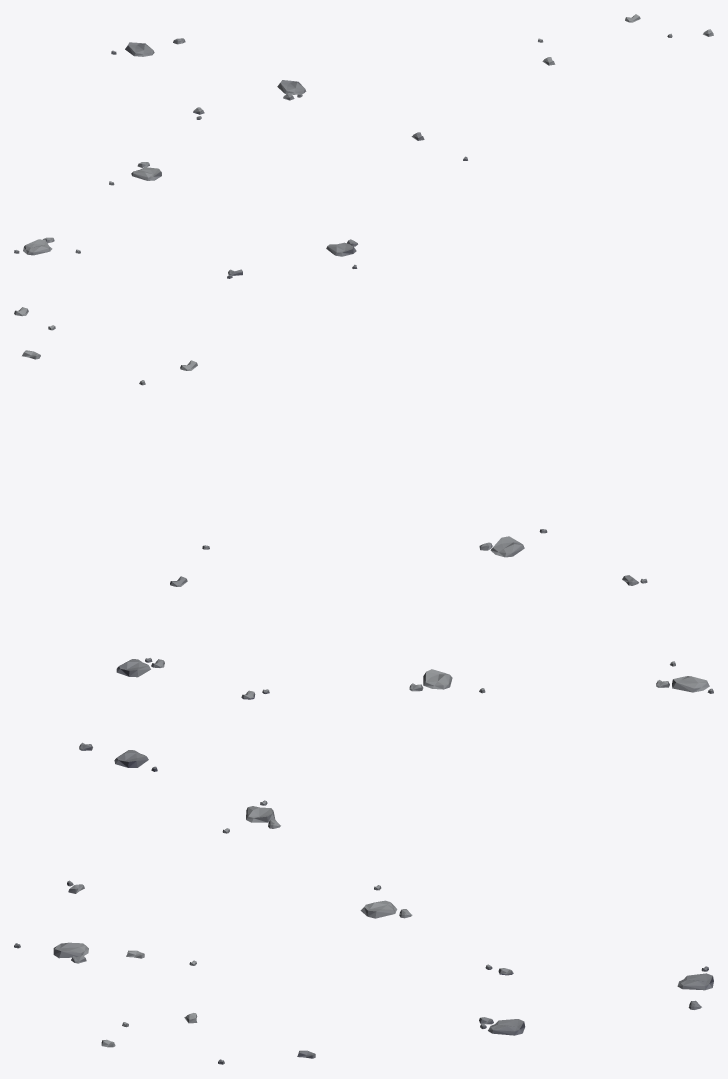
Rendered from Ground_04.FBX.
The picture shows the model from 3 angles, top to bottom: view 1: azimuth 30°, elevation 25°; view 2: azimuth 150°, elevation 25°; view 3: azimuth 270°, elevation 25°; orthographic projection. The views are drawn at different scales.
Visible parts, largest first — view 1: Ground_04; view 2: Ground_04; view 3: Ground_04.
Part boxes in pixels (x1,y1,x2,y2): Ground_04: (14, 14, 713, 278); Ground_04: (14, 307, 713, 771); Ground_04: (14, 800, 713, 1064).
Bounding box in the file's own units: 25.89 × 4.46 × 20.08.
